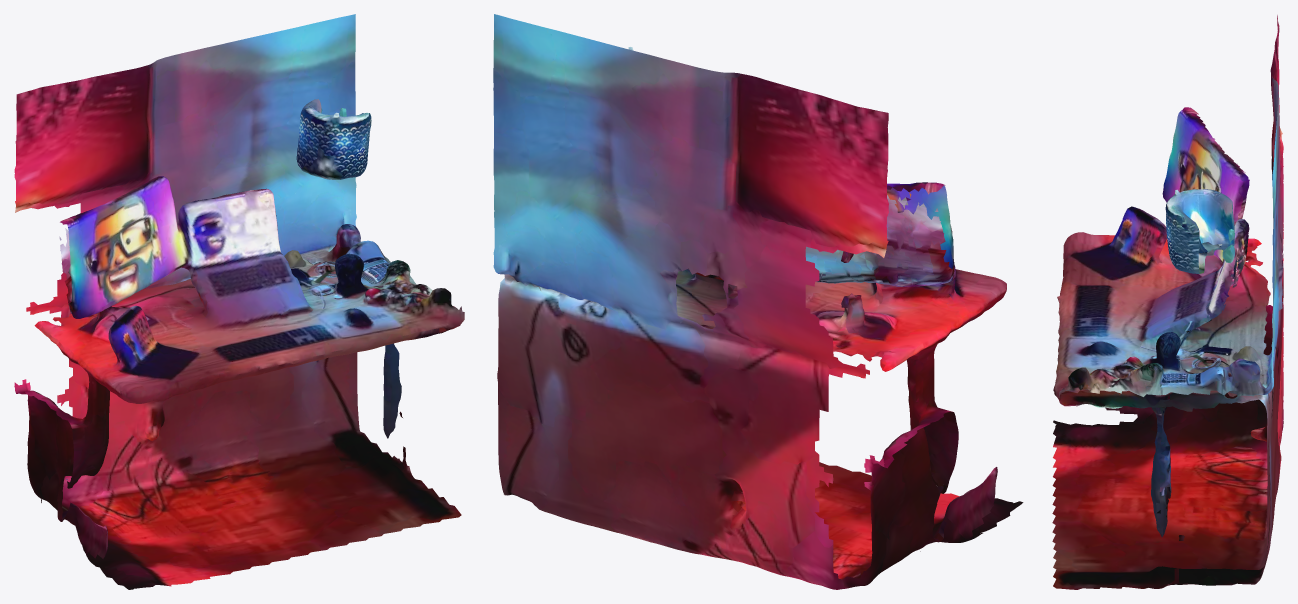
3 renders of one model, left to right at view 1: azimuth 30°, elevation 25°; view 2: azimuth 150°, elevation 25°; view 3: azimuth 270°, elevation 25°, orthographic. The views are drawn at different scales.
Visible parts, largest first — view 1: Object_2; view 2: Object_2; view 3: Object_2.
Boxes of the visible parts, box(x1,y1,x2,y2) form: Object_2: box(14, 14, 464, 589); Object_2: box(493, 14, 1023, 589); Object_2: box(1052, 15, 1283, 589).
Bounding box in the file's own units: 1.34 × 1.59 × 0.8018.
1 material, 1 textured.
